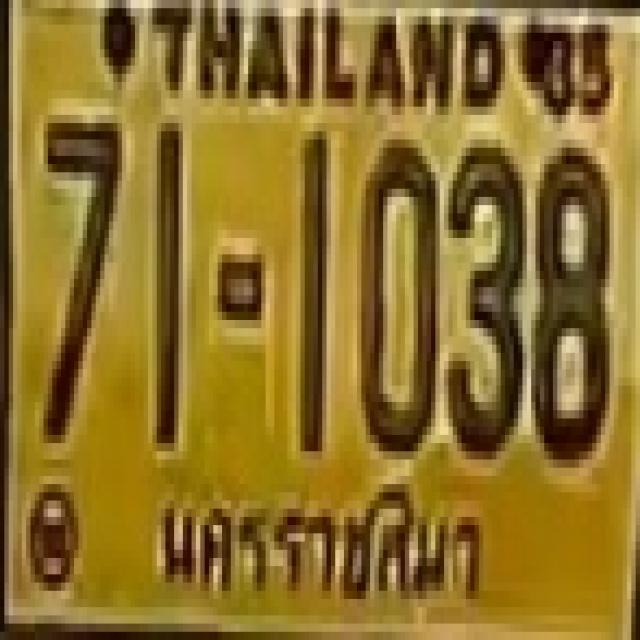0: (357, 136, 435, 448)
1: (296, 132, 327, 452), (152, 123, 178, 443)
3: (444, 140, 523, 452)
7: (44, 115, 118, 435)
8: (531, 140, 605, 452)
NMA: (155, 466, 489, 619)
